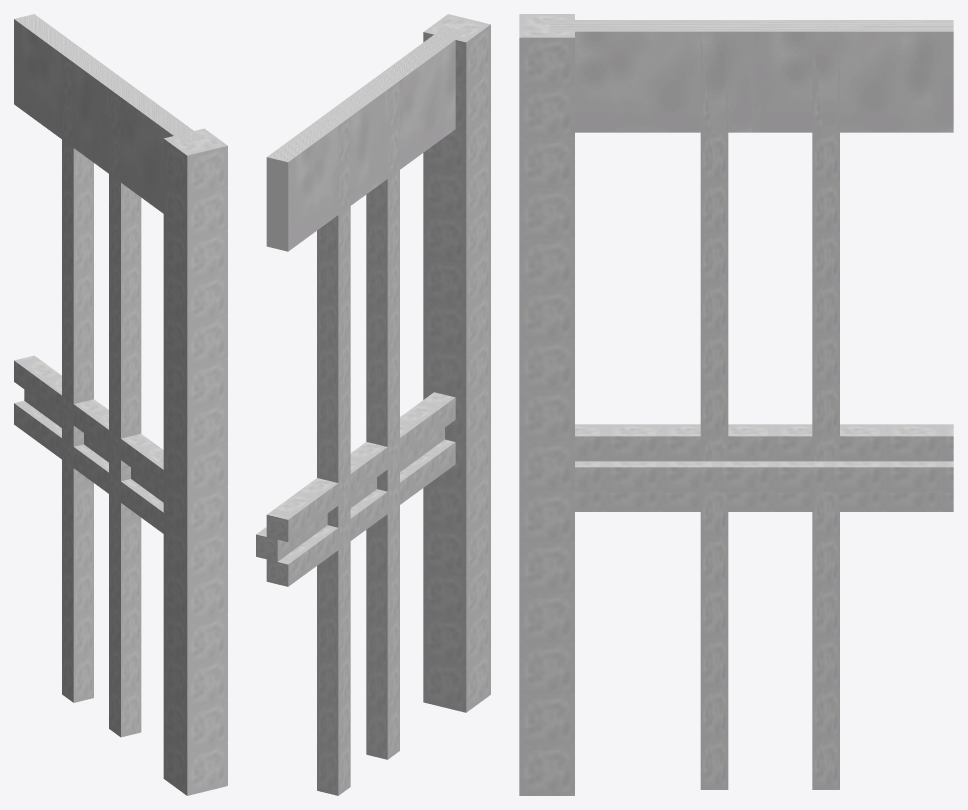
Rendered from MainBuilding_Wall_Height1.fbx.
3 renders of one model, left to right at view 1: azimuth 30°, elevation 25°; view 2: azimuth 150°, elevation 25°; view 3: azimuth 270°, elevation 25°, orthographic. The views are drawn at different scales.
Parts seen in each view (by area): view 1: node_id7; view 2: node_id7 (×2); view 3: node_id7.
Part boxes in pixels (x1,y1,x2,y2): node_id7: (14, 14, 227, 795); node_id7 (×2): (256, 14, 490, 795); node_id7: (519, 14, 953, 795).
Size of the model in its own units: 0.0341 by 0.512 by 0.2658.
Materials: 2 (1 with a texture image).
